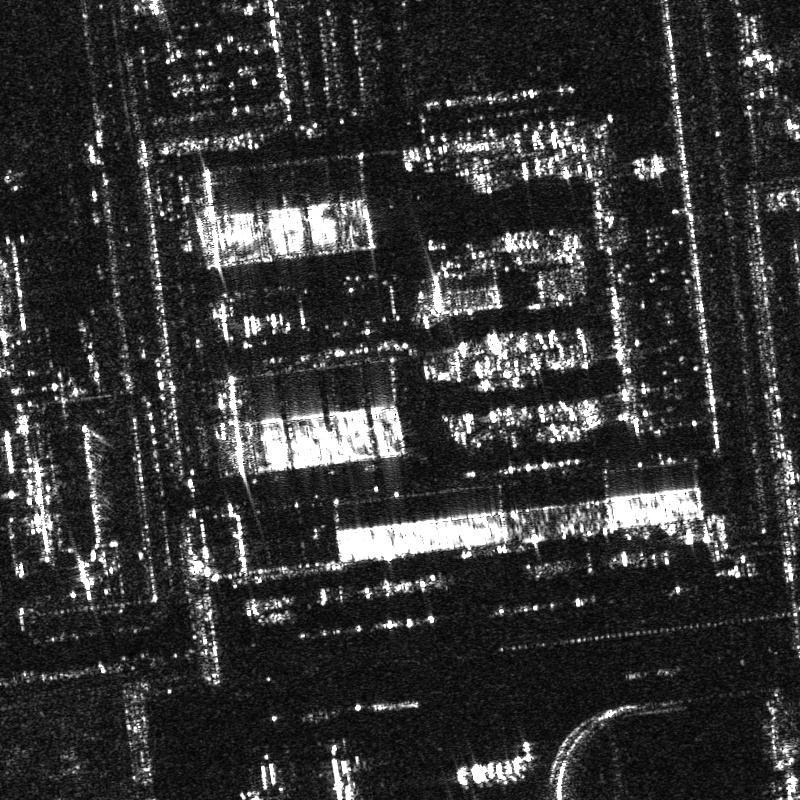Boeing787: (314, 742, 373, 799)
